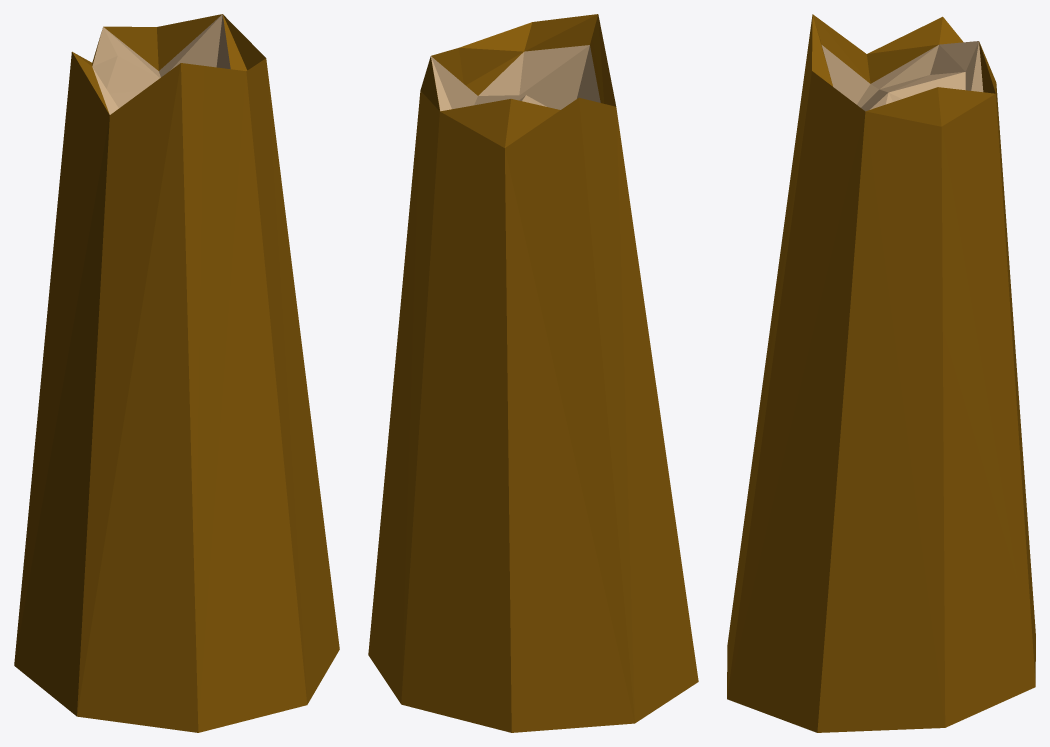
Rendered from Vegetation_Tree_Stump_07.fbx.
The picture shows the model from 3 angles, left to right: view 1: azimuth 30°, elevation 25°; view 2: azimuth 150°, elevation 25°; view 3: azimuth 270°, elevation 25°; orthographic projection.
Visible parts, largest first — view 1: Vegetation_Tree_Stump_07; view 2: Vegetation_Tree_Stump_07; view 3: Vegetation_Tree_Stump_07.
Boxes of the visible parts, <box> form: Vegetation_Tree_Stump_07: <box>14,14,339,732</box>; Vegetation_Tree_Stump_07: <box>368,14,698,732</box>; Vegetation_Tree_Stump_07: <box>727,14,1035,732</box>.
Bounding box in the file's own units: 31.06 × 71.57 × 31.07.
